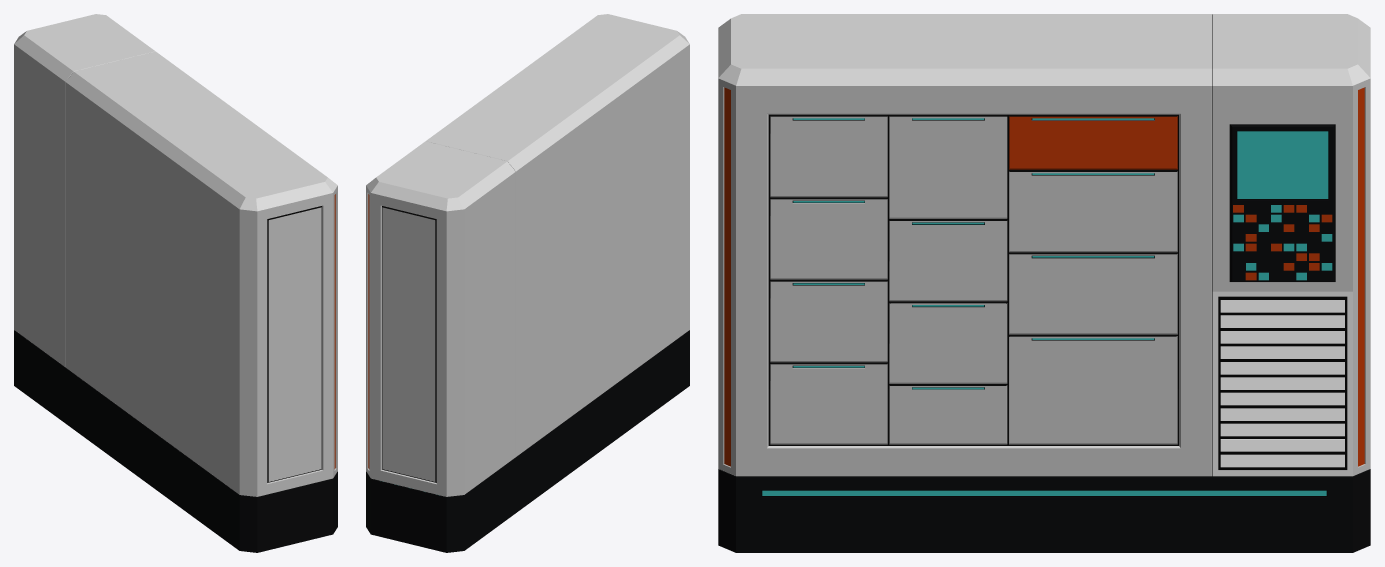
File: SM_Parcel_Locker.obj
3 renders of one model, left to right at view 1: azimuth 30°, elevation 25°; view 2: azimuth 150°, elevation 25°; view 3: azimuth 270°, elevation 25°, orthographic. The views are drawn at different scales.
Visible parts, largest first — view 1: SM_Parcel_Locker; view 2: SM_Parcel_Locker; view 3: SM_Parcel_Locker.
Boxes of the visible parts, box(x1,y1,x2,y2) form: SM_Parcel_Locker: box(14, 14, 337, 552); SM_Parcel_Locker: box(366, 14, 689, 552); SM_Parcel_Locker: box(718, 14, 1370, 552).
Bounding box in the file's own units: 0.5039 × 1.7 × 2.1.
